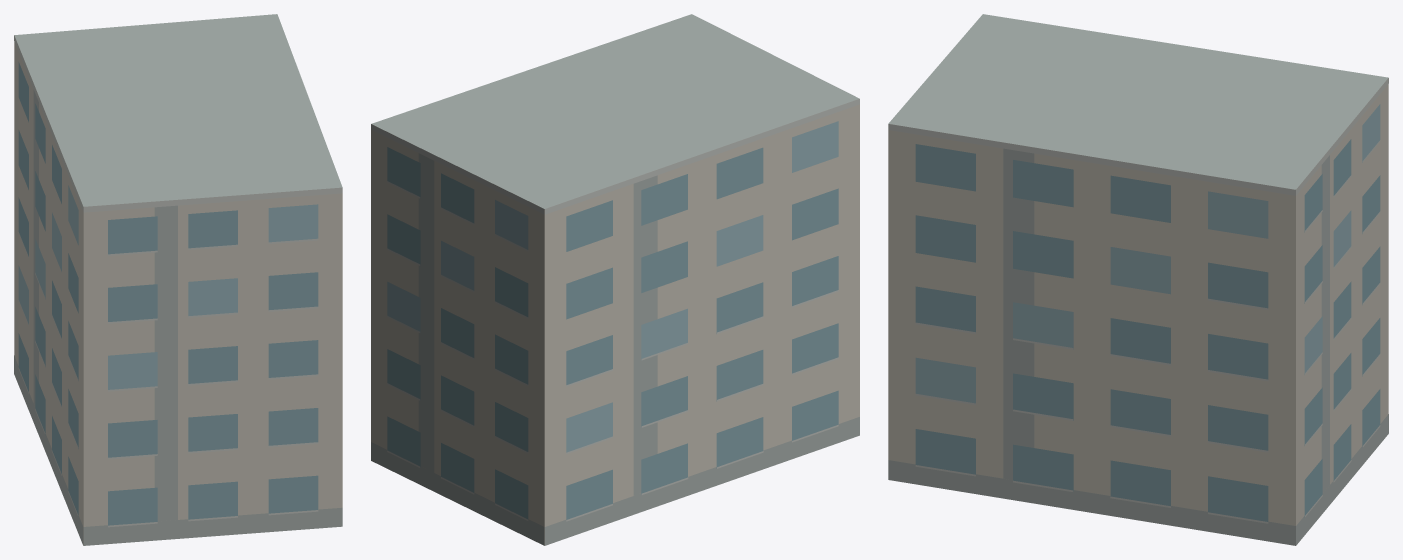
File: survey-upis-32888492.glb
3 renders of one model, left to right at view 1: azimuth 30°, elevation 25°; view 2: azimuth 150°, elevation 25°; view 3: azimuth 270°, elevation 25°, orthographic. The views are drawn at different scales.
Visible parts, largest first — view 1: survey-upis-32888492.tmp; view 2: survey-upis-32888492.tmp; view 3: survey-upis-32888492.tmp.
Part boxes in pixels (x1,y1,x2,y2): survey-upis-32888492.tmp: (14,14,342,545); survey-upis-32888492.tmp: (371,14,859,545); survey-upis-32888492.tmp: (888,14,1388,545).
Size of the model in its own units: 15.04 by 14.2 by 18.1.
